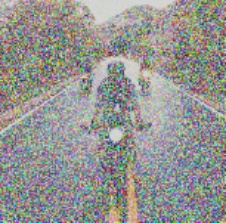Vehicle: (76, 109, 158, 209), (74, 70, 97, 97), (136, 68, 154, 93)
